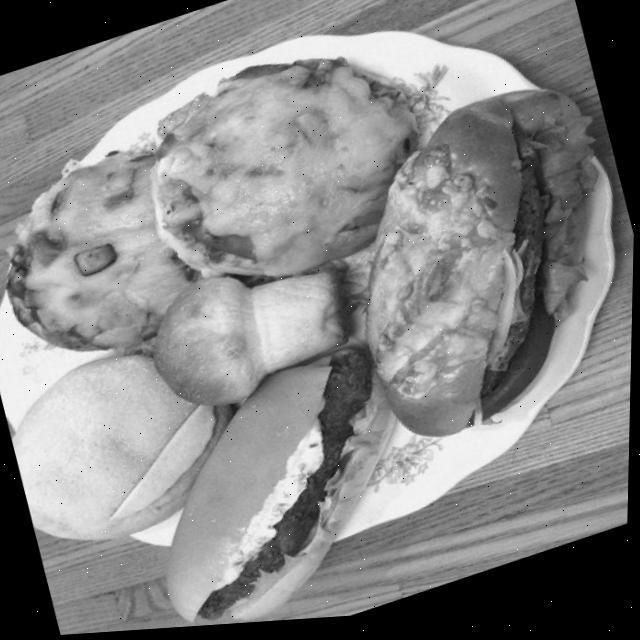三明治: (281, 51, 639, 498)
